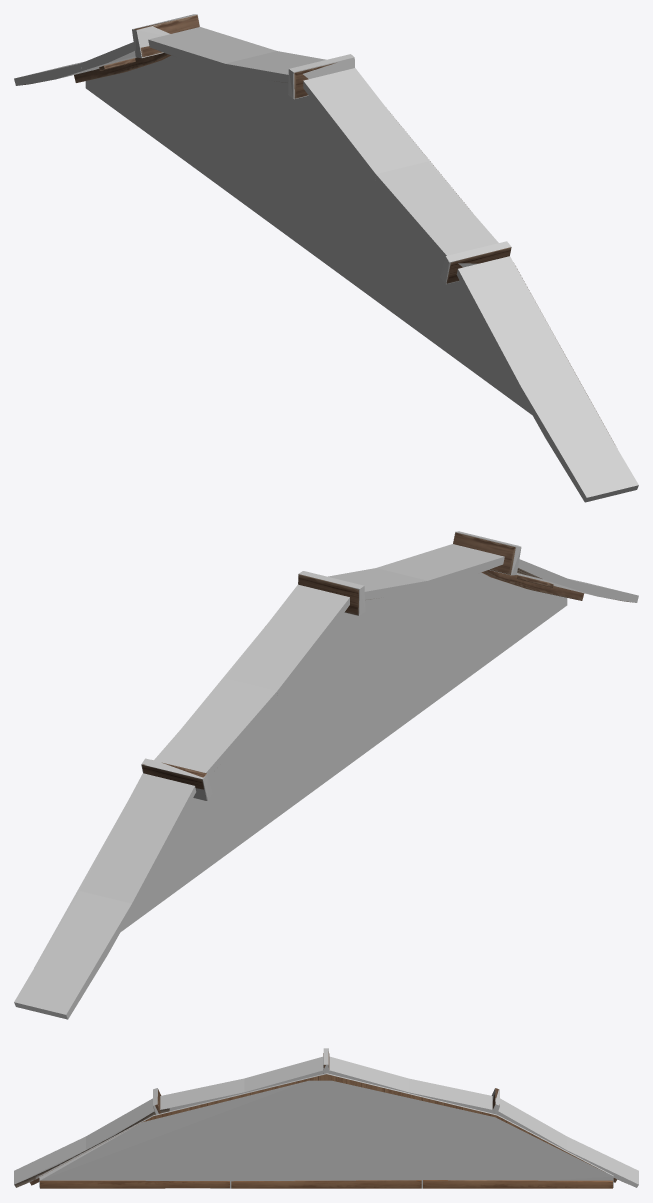
File: SM_Hangar01RE_4.fbx
3 views of the same model, one above another, from view 1: azimuth 30°, elevation 25°; view 2: azimuth 150°, elevation 25°; view 3: azimuth 270°, elevation 25° (orthographic). The views are drawn at different scales.
Parts seen in each view (by area): view 1: SM_Hangar01RE_4_ConvexHulls, SM_Hangar01RE_4; view 2: SM_Hangar01RE_4_ConvexHulls, SM_Hangar01RE_4; view 3: SM_Hangar01RE_4_ConvexHulls, SM_Hangar01RE_4.
Part boxes in pixels (x1=…): SM_Hangar01RE_4_ConvexHulls: x1=14, y1=14, x2=638, y2=502; SM_Hangar01RE_4: x1=22, y1=15, x2=613, y2=441; SM_Hangar01RE_4_ConvexHulls: x1=14, y1=531, x2=638, y2=1019; SM_Hangar01RE_4: x1=142, y1=532, x2=632, y2=789; SM_Hangar01RE_4_ConvexHulls: x1=14, y1=1048, x2=638, y2=1188; SM_Hangar01RE_4: x1=14, y1=1052, x2=628, y2=1188.
Size of the model in its own units: 101 by 1471 by 320.
7 materials, 6 textured.
